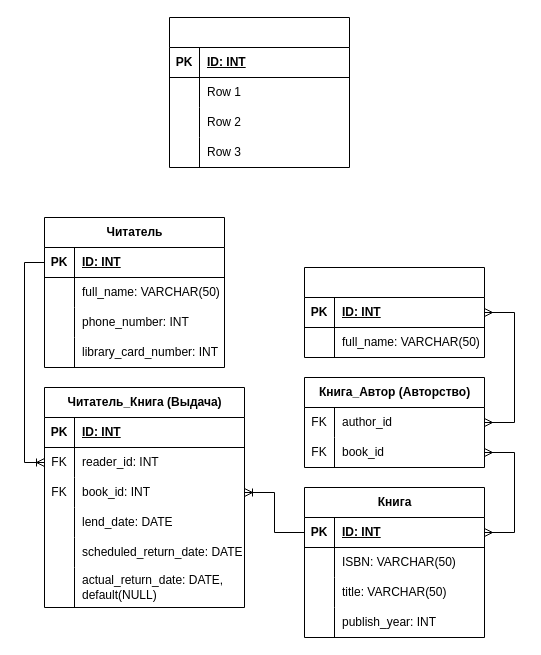
The diagram is 541 pixels wide and 655 high, and some of its shapes have lost their labels. Here are the shapes that lost their labels. From the top down, the box of each, then its label:
(168, 16, 350, 168): Библиотека
(304, 266, 484, 358): Автор
